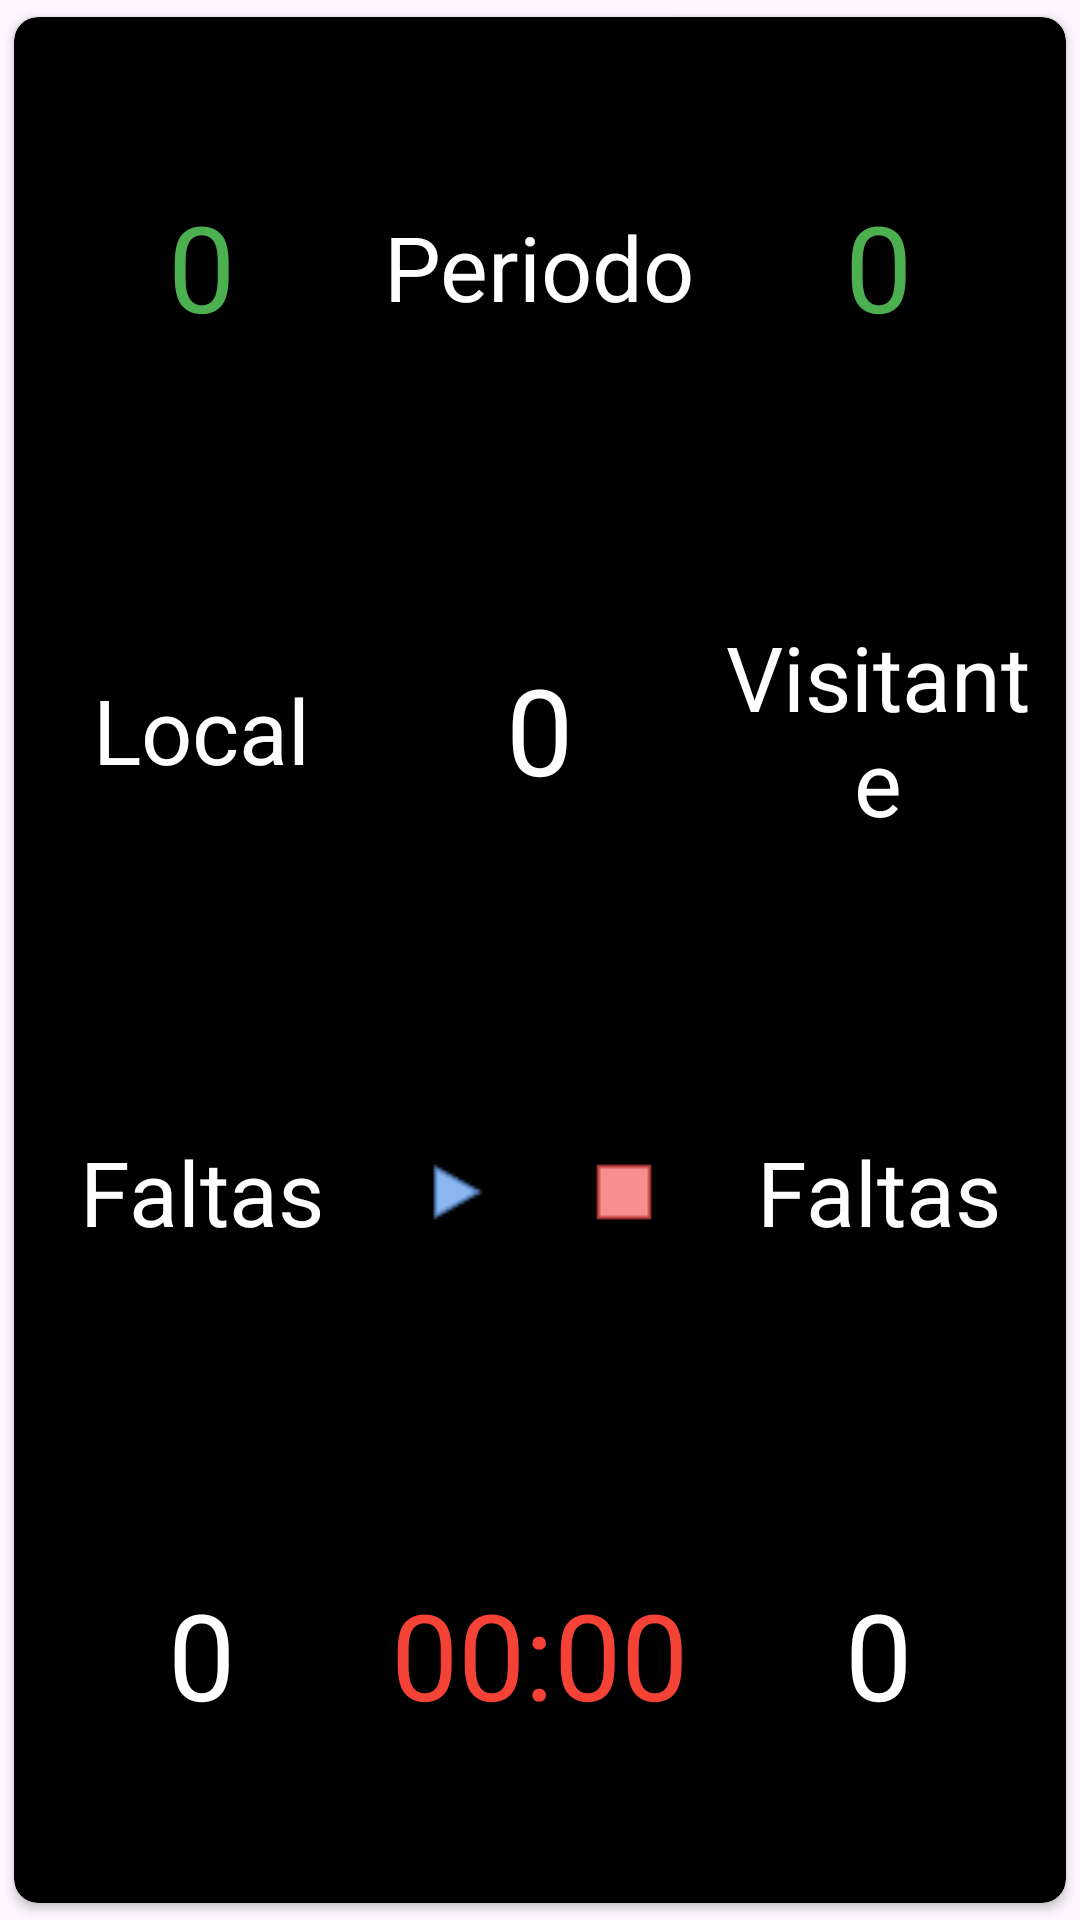

Where icons sit on this 1080 × 1920 app screen, as bbox(x1, y1, x2, y2):
play: bbox(433, 1164, 483, 1220)
stop: bbox(596, 1164, 652, 1220)
